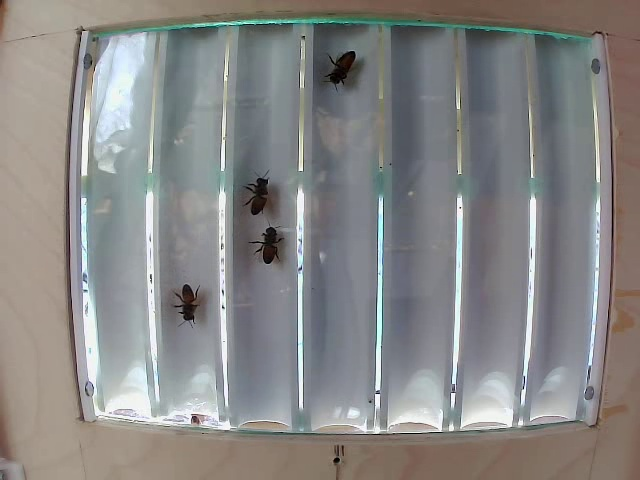bee: (243, 169, 277, 221), (258, 220, 289, 272), (178, 282, 210, 321), (326, 52, 352, 81)
